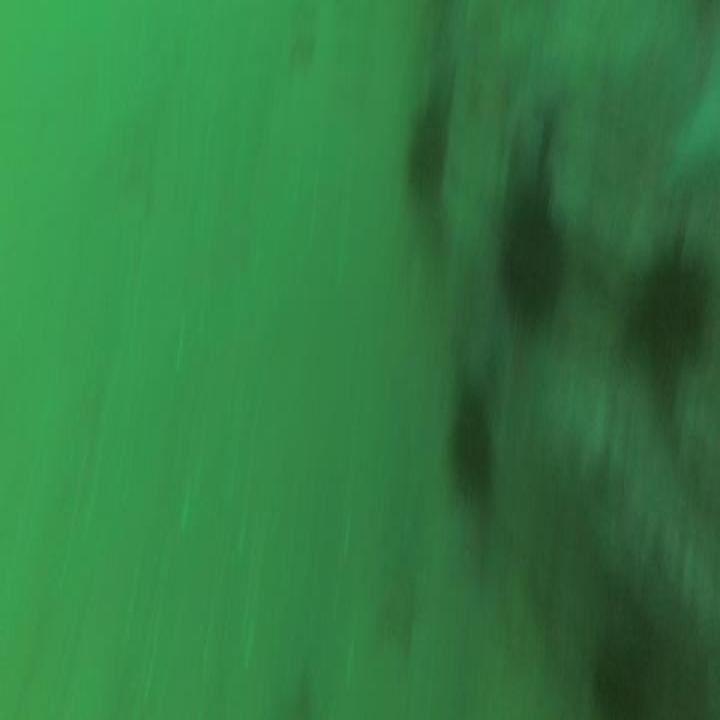echinus: (630, 242, 704, 391), (496, 188, 563, 338), (447, 382, 503, 514), (403, 89, 455, 217), (586, 628, 647, 718)
